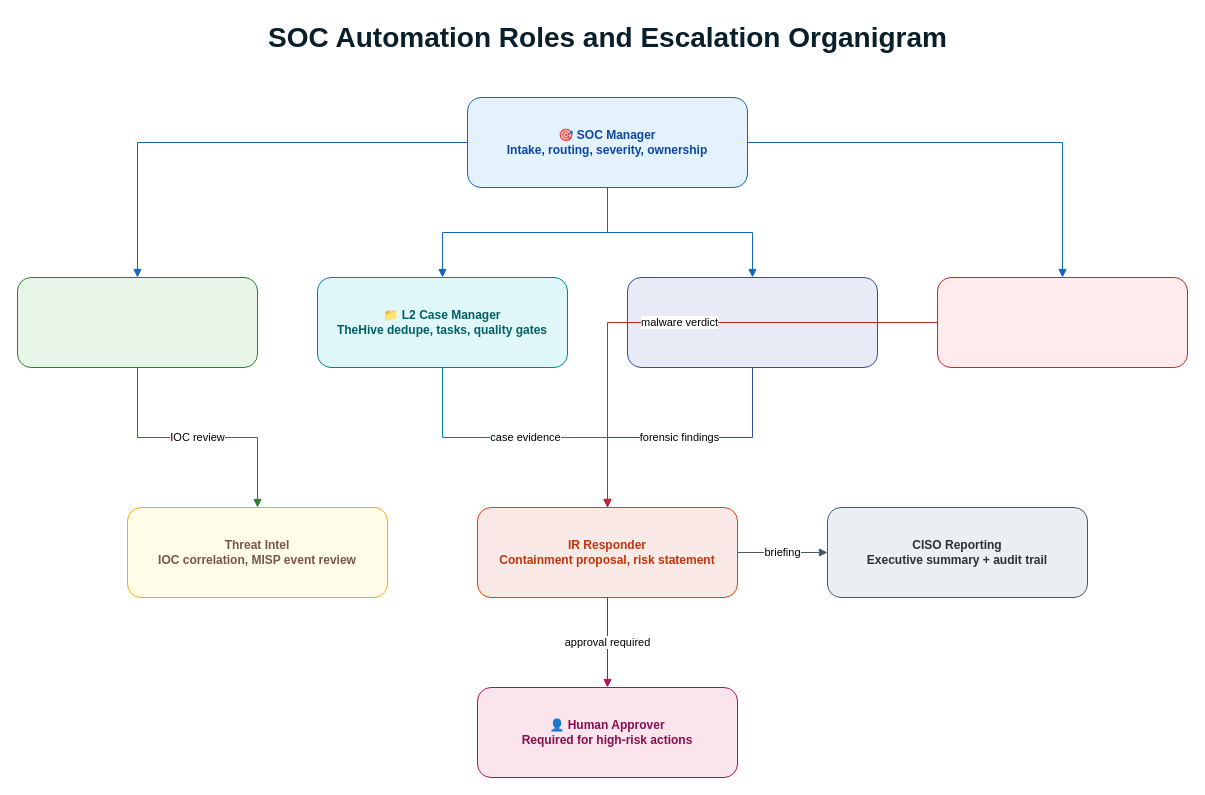
Some shapes in this 1205 by 795 pixel diagram are drawn without their labels. Each missing label, with the centre of its shape:
🔍 L1 Triage MISP + Cortex enrichment: point 137,322
🔎 L3 DFIR Velociraptor read-only collection: point 752,322
🤖 Malware Analyst CAPEv2, CAPA, YARA, Ghidra: point 1062,322
